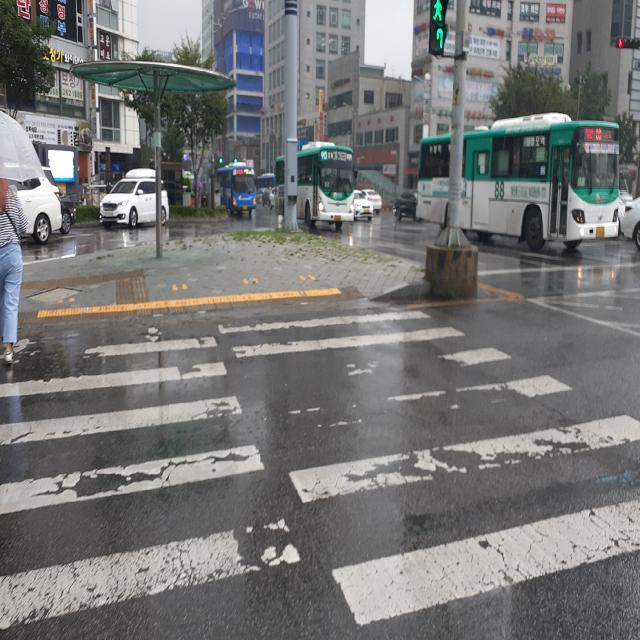초록불: (429, 1, 445, 54)
횡단보도: (0, 307, 640, 634)
